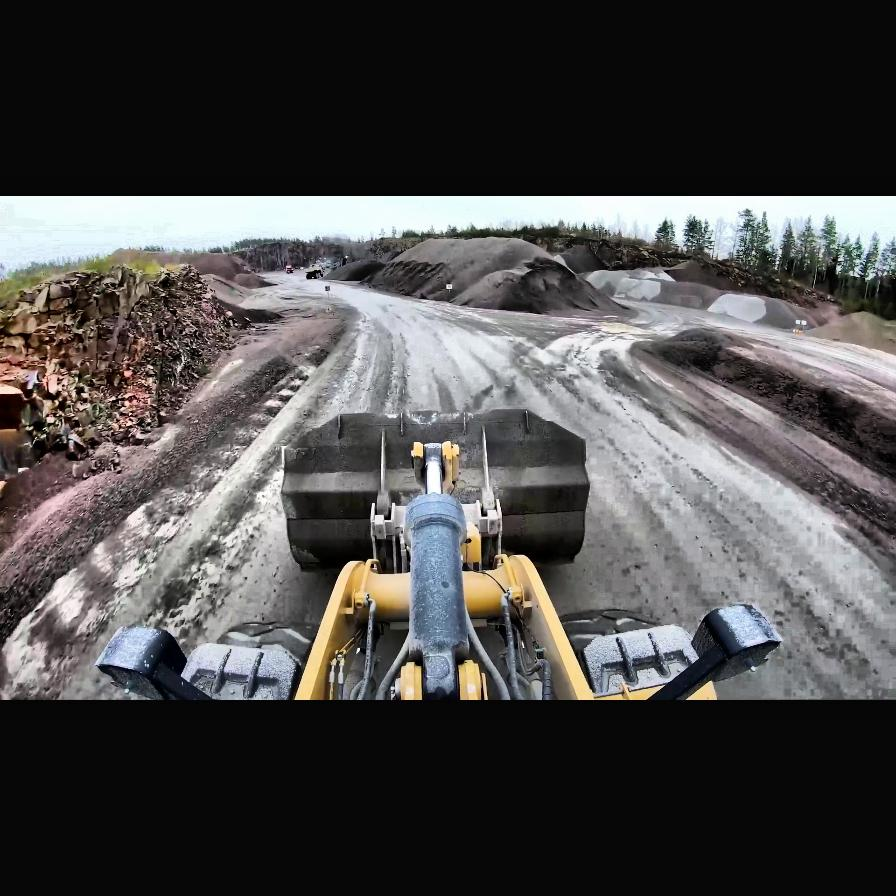anchor: (412, 440, 462, 494)
pile of gravel: (614, 323, 892, 589), (368, 234, 592, 316), (577, 258, 823, 332), (182, 251, 274, 288), (204, 274, 256, 306), (320, 258, 382, 282)
